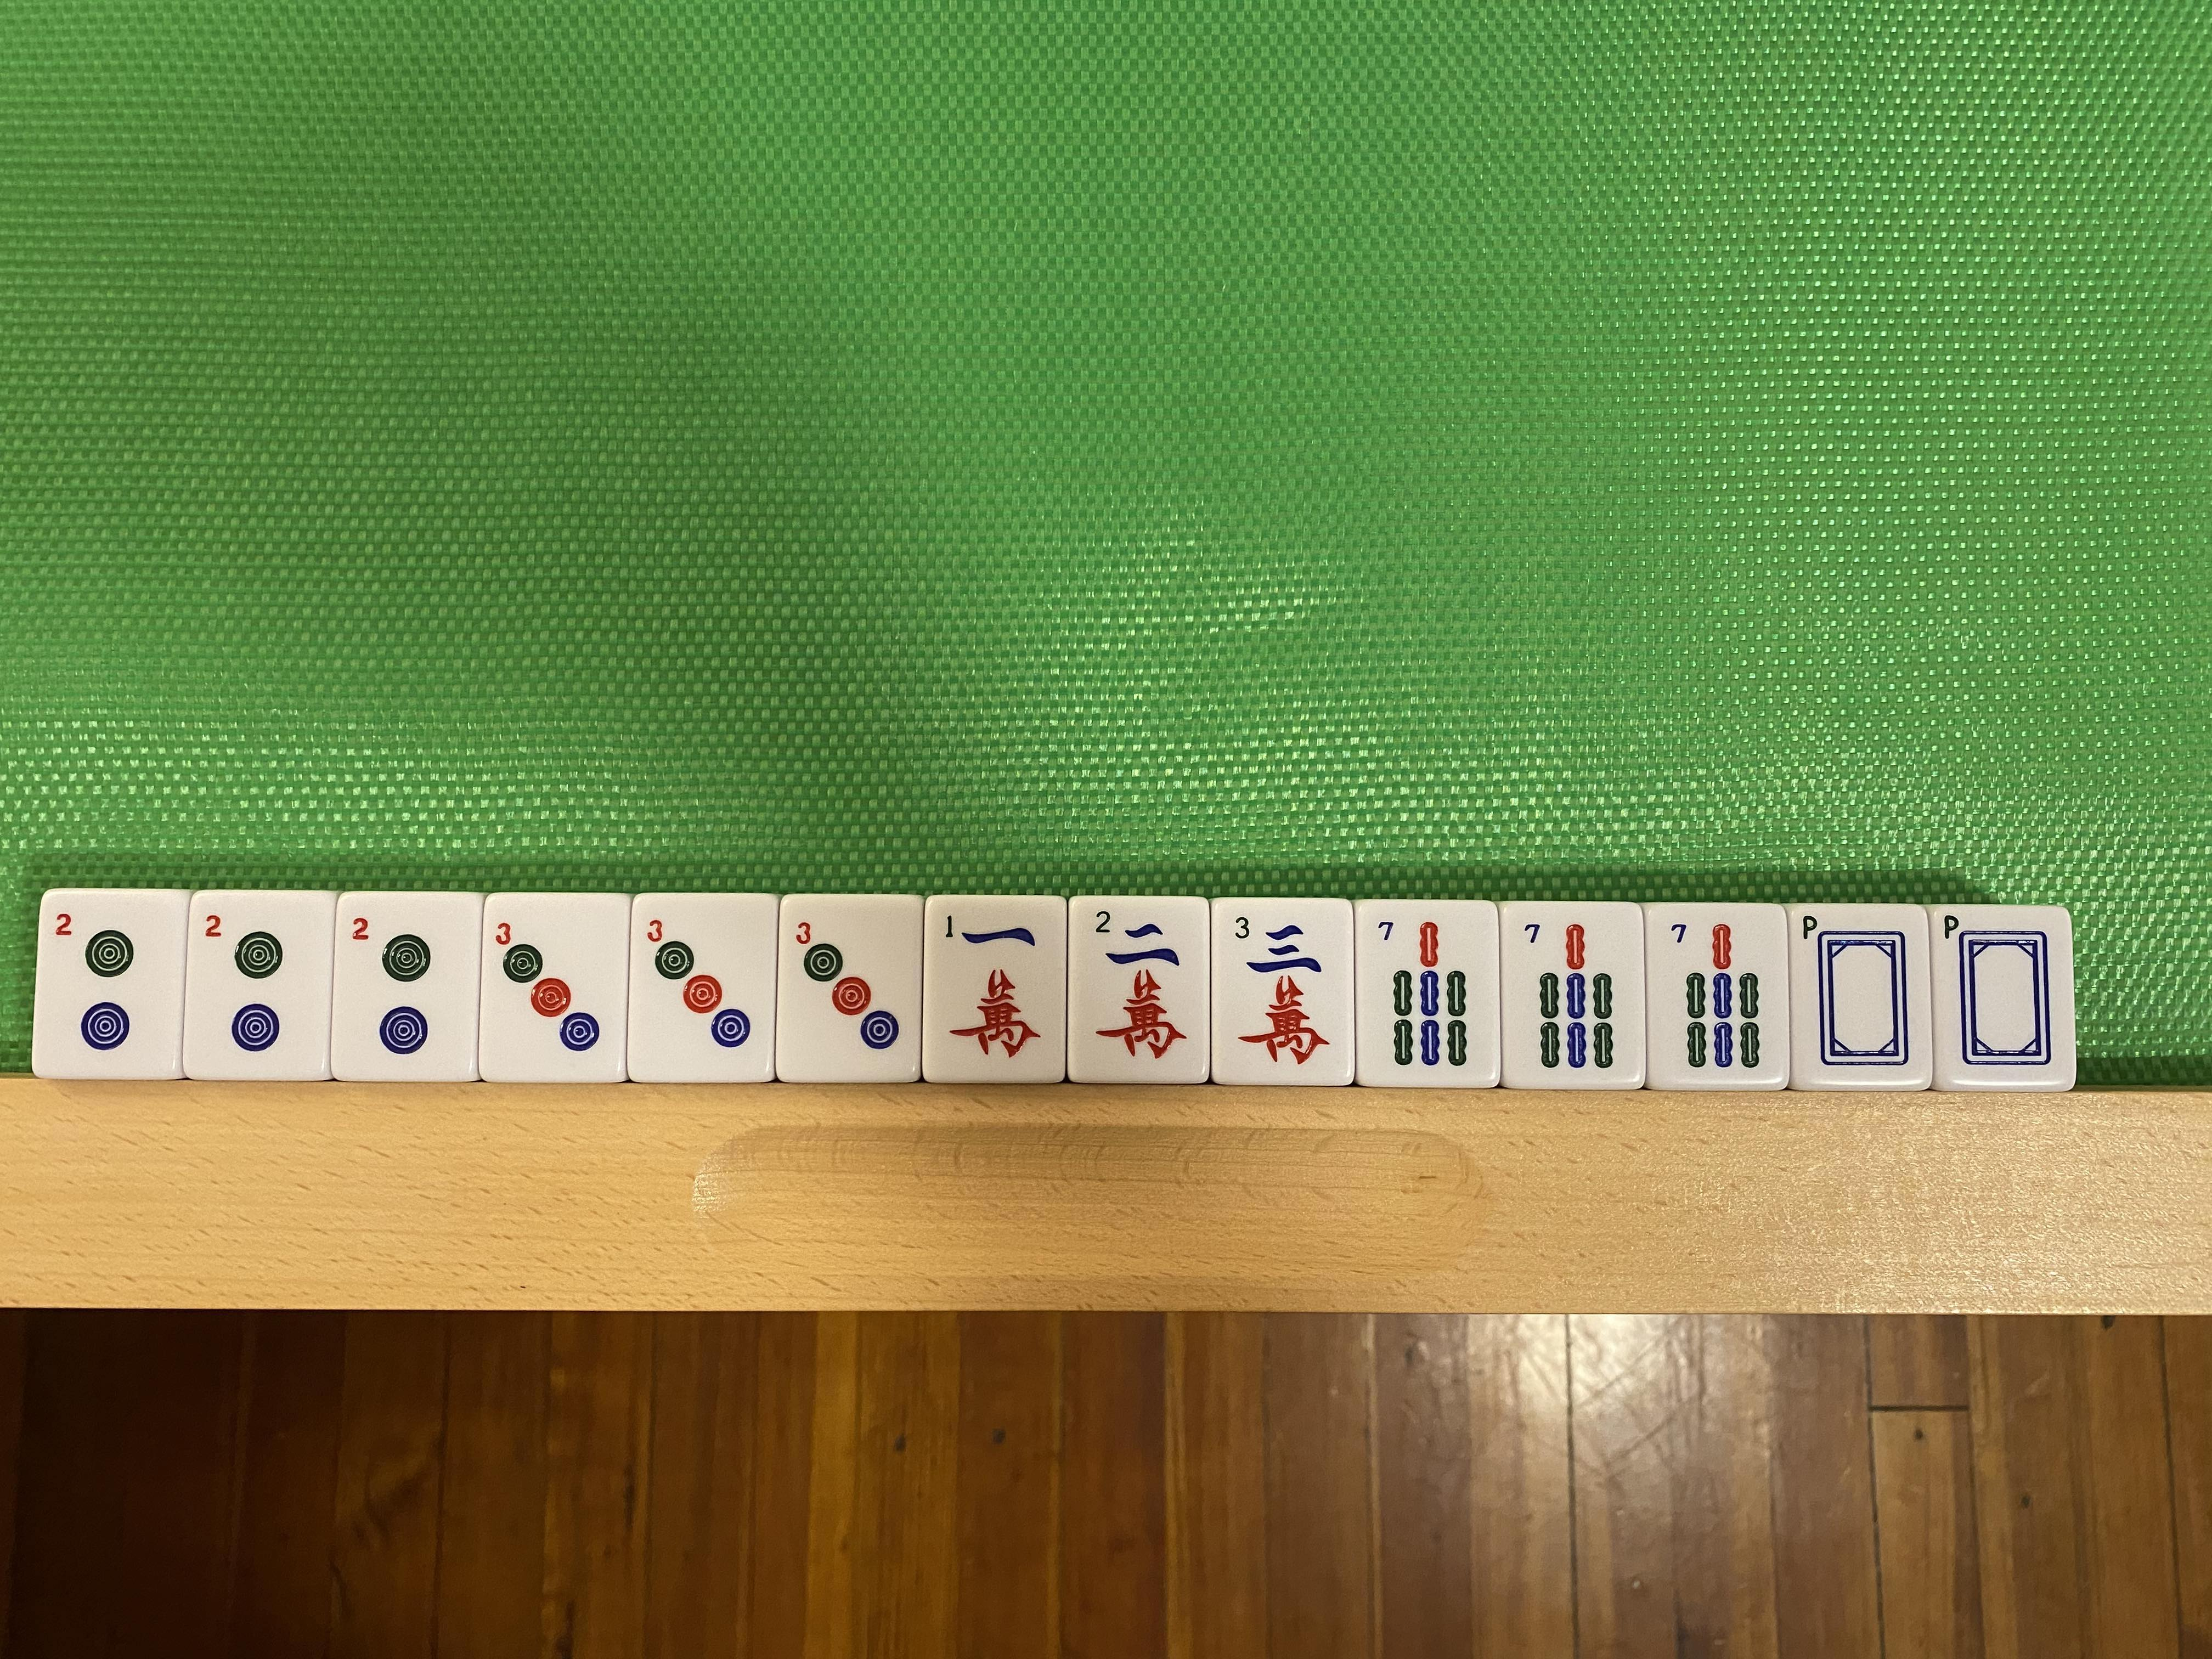bamboo-seven: (1503, 904, 1641, 1087), (1359, 903, 1496, 1084), (1651, 906, 1782, 1089)
character-one: (925, 899, 1066, 1080)
character-three: (1212, 903, 1350, 1084)
character-two: (1069, 899, 1207, 1082)
circle-three: (629, 897, 772, 1082), (777, 899, 921, 1079), (482, 897, 622, 1080)
circle-two: (333, 896, 475, 1079), (185, 897, 327, 1073), (44, 896, 179, 1075)
honor-blue_dragon: (1794, 908, 1925, 1086), (1939, 910, 2067, 1087)
